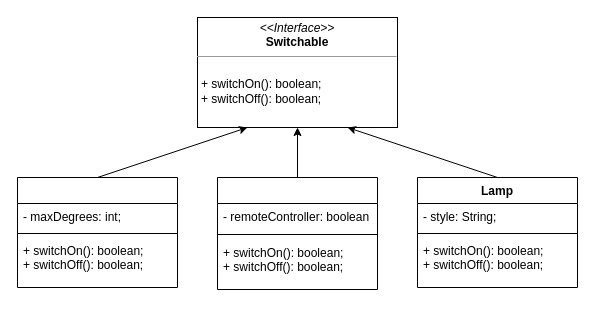
The diagram is 595 pixels wide and 310 high, and some of its shapes have lost their labels. Each missing label, with the box of its shape:
Oven: (16, 176, 178, 288)
TV: (216, 176, 378, 290)
